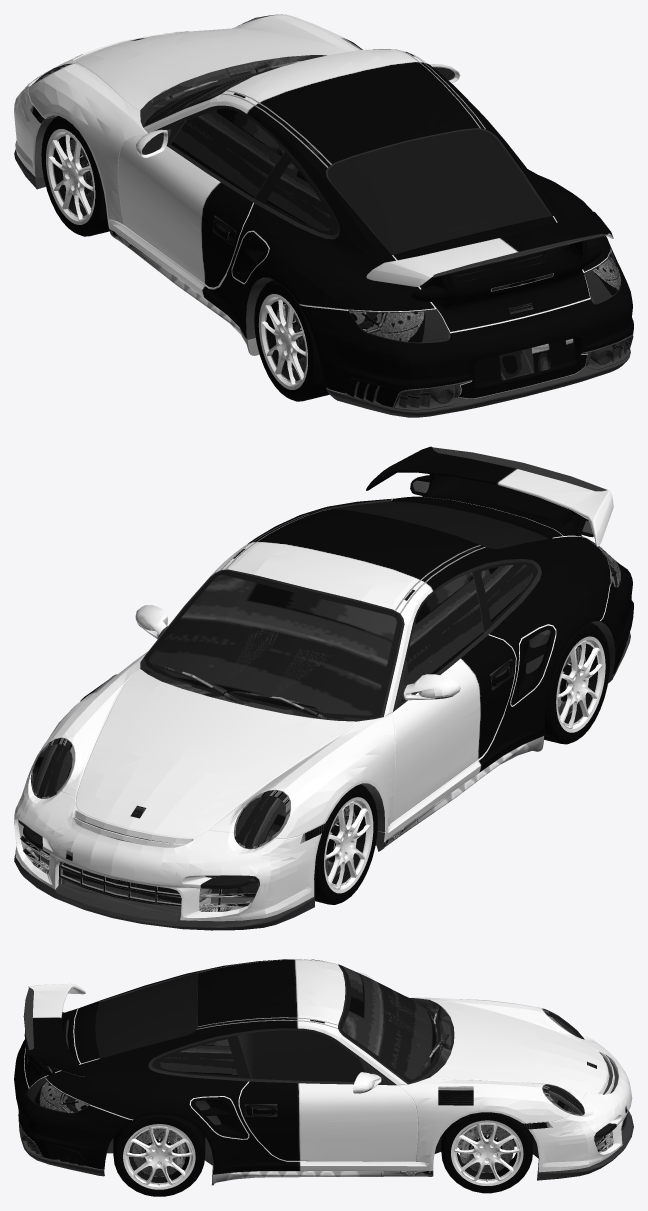
File: Porsche_911_GT2_Drive.obj
3 views of the same model, one above another, from view 1: azimuth 30°, elevation 25°; view 2: azimuth 150°, elevation 25°; view 3: azimuth 270°, elevation 25° (orthographic). The views are drawn at different scales.
Parts seen in each view (by area): view 1: Porsche_911_GT2.004; view 2: Porsche_911_GT2.004; view 3: Porsche_911_GT2.004.
Boxes of the visible parts, <box> form: Porsche_911_GT2.004: <box>14,14,633,417</box>; Porsche_911_GT2.004: <box>14,446,633,930</box>; Porsche_911_GT2.004: <box>14,959,633,1196</box>.
Bounding box in the file's own units: 1.96 × 1.27 × 4.46.
Materials: 2 (1 with a texture image).
